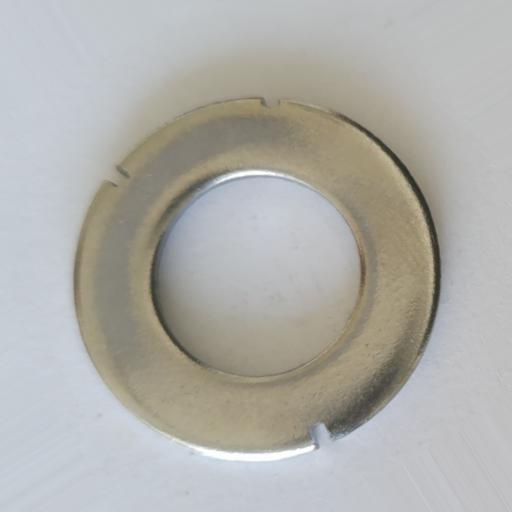burr: (308, 421, 335, 450), (103, 163, 132, 190), (260, 96, 282, 110)
